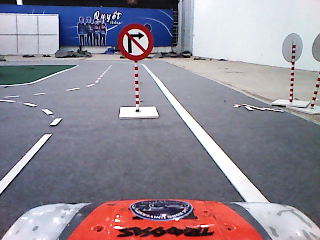ban: (116, 21, 155, 61)
